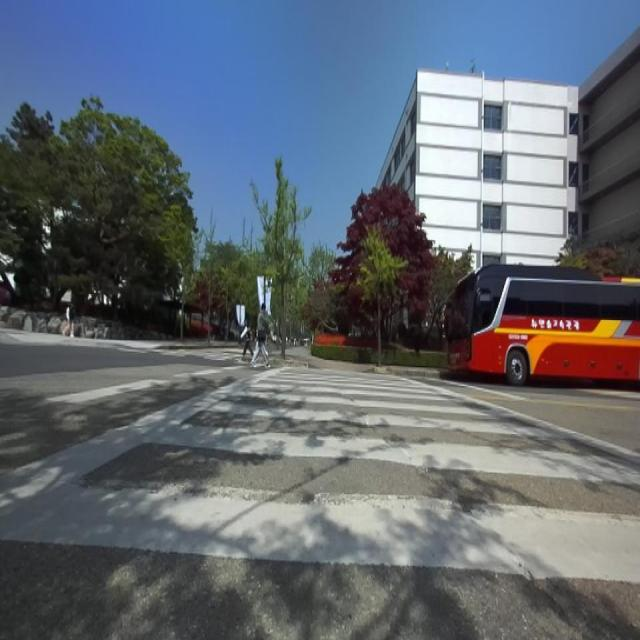sidewalk: (0, 328, 163, 350), (286, 346, 369, 371), (270, 350, 280, 359)
